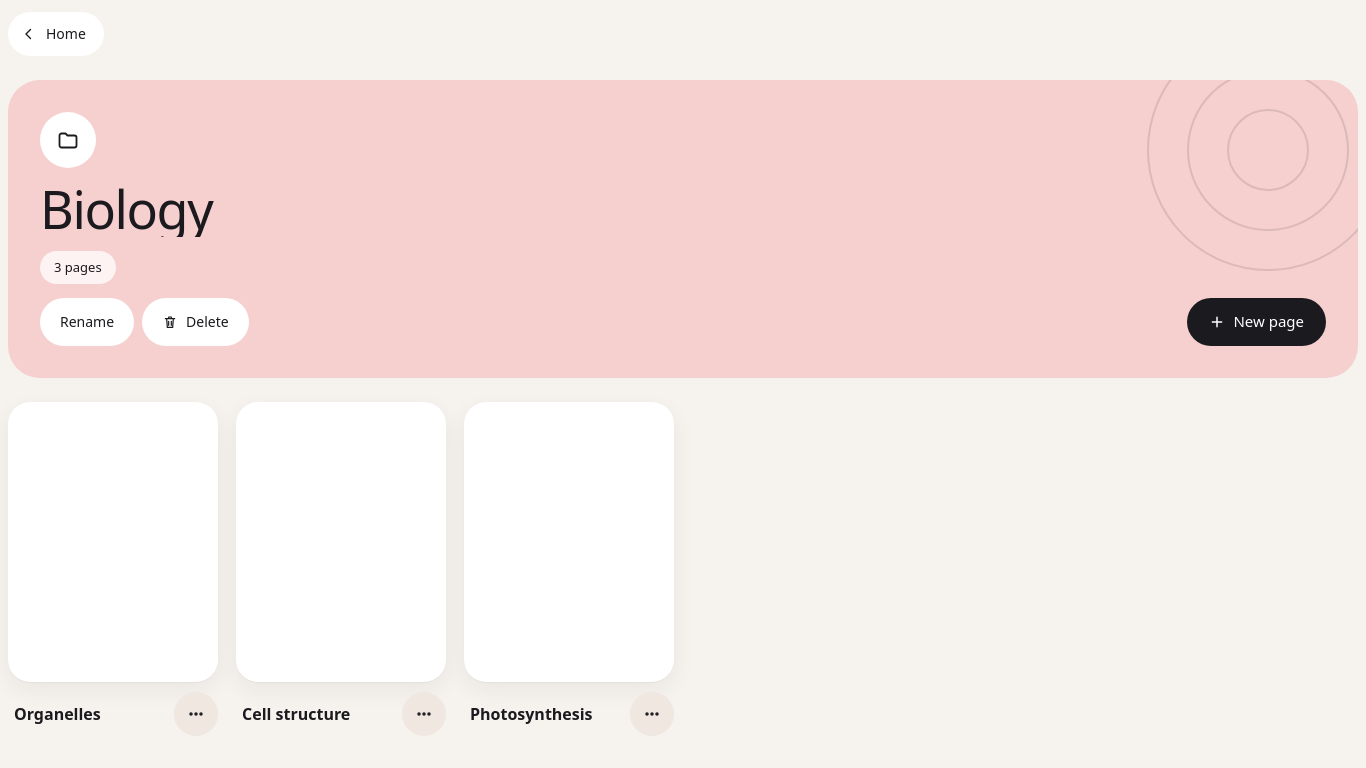
FolderView › refuses to delete a folder that has pages, with no delete button
This screenshot has width=1366, height=768.
Click the button "Delete".
click(195, 322)  # box 142,298 -> 249,346
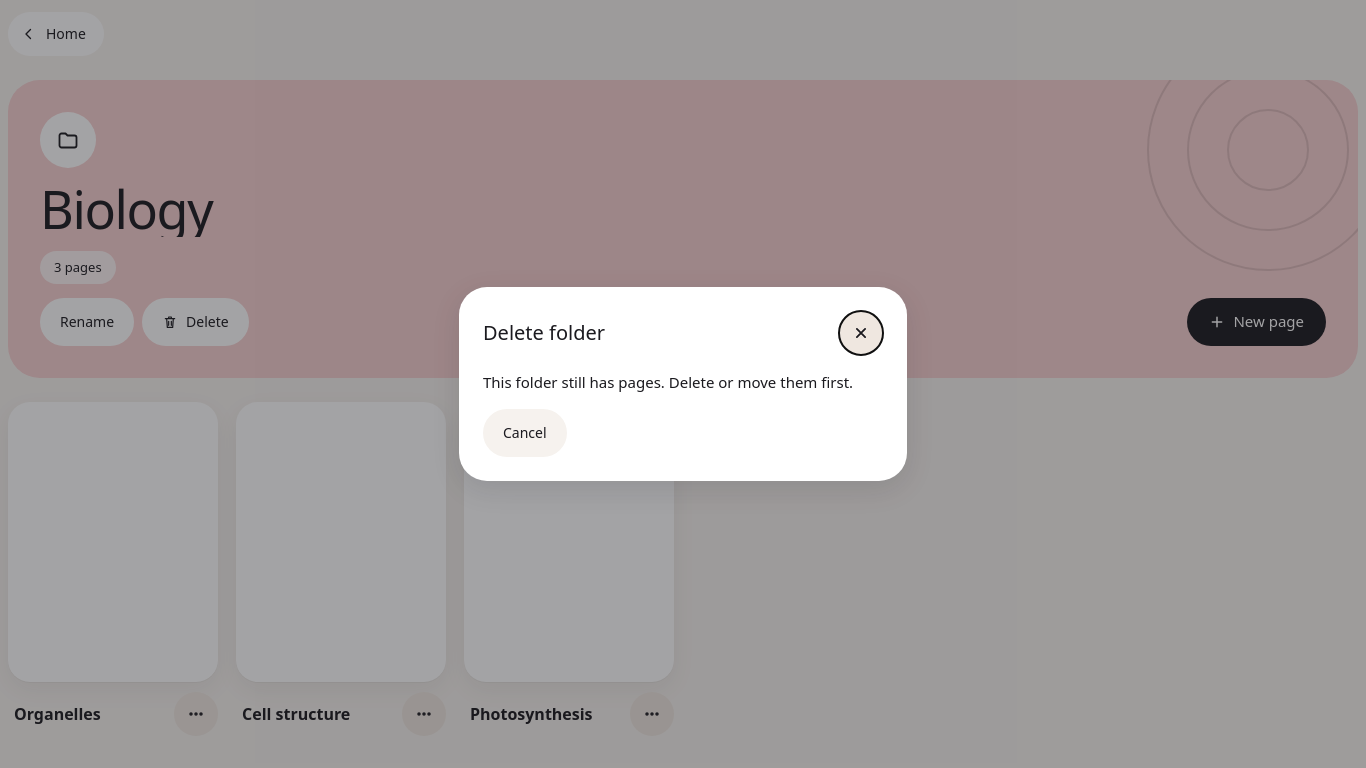
Expected: the dialog "Delete folder" shows "This folder still has pages. Delete or move them first.", 483,372 -> 853,392
